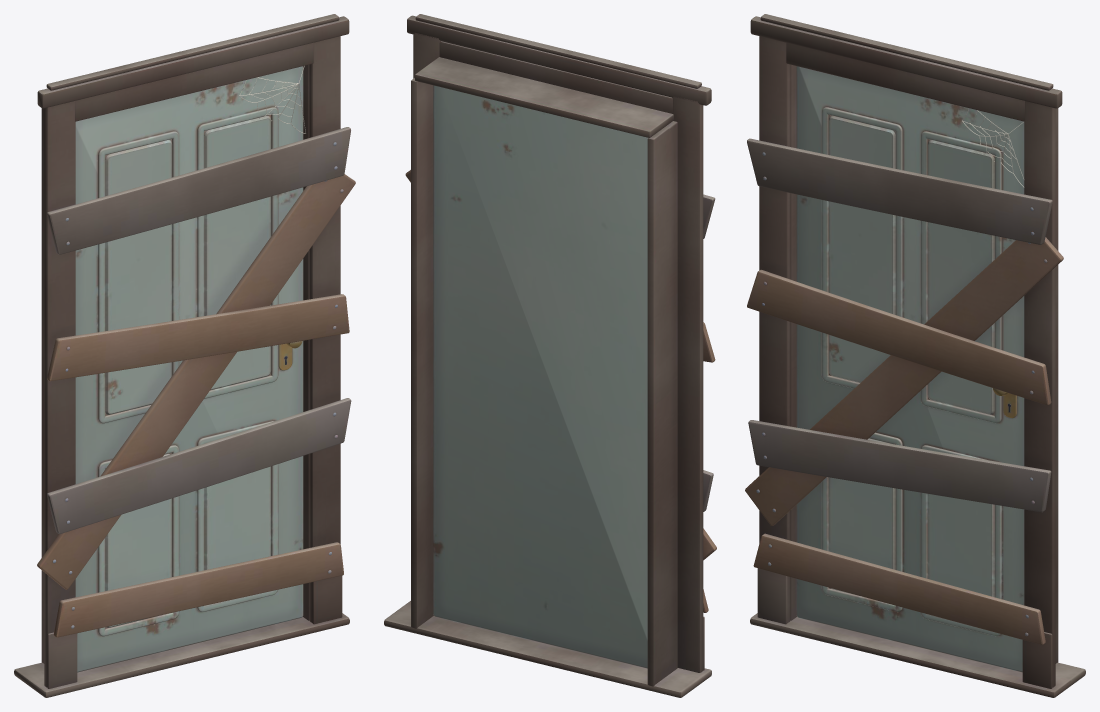
File: barricaded-door.glb
3 views of the same model, side by side, from view 1: azimuth 30°, elevation 25°; view 2: azimuth 150°, elevation 25°; view 3: azimuth 330°, elevation 25° (orthographic). The views are drawn at different scales.
Parts seen in each view (by area): view 1: barricaded-door_body, barricaded-door_web; view 2: barricaded-door_body; view 3: barricaded-door_body, barricaded-door_web.
Boxes of the visible parts, <box> form: barricaded-door_body: <box>14,14,355,697</box>; barricaded-door_web: <box>239,66,305,133</box>; barricaded-door_body: <box>384,14,716,697</box>; barricaded-door_body: <box>745,14,1085,697</box>; barricaded-door_web: <box>962,108,1024,187</box>.
Bounding box in the file's own units: 1.18 × 2.17 × 0.2351.
Materials: 3 (1 with a texture image).
